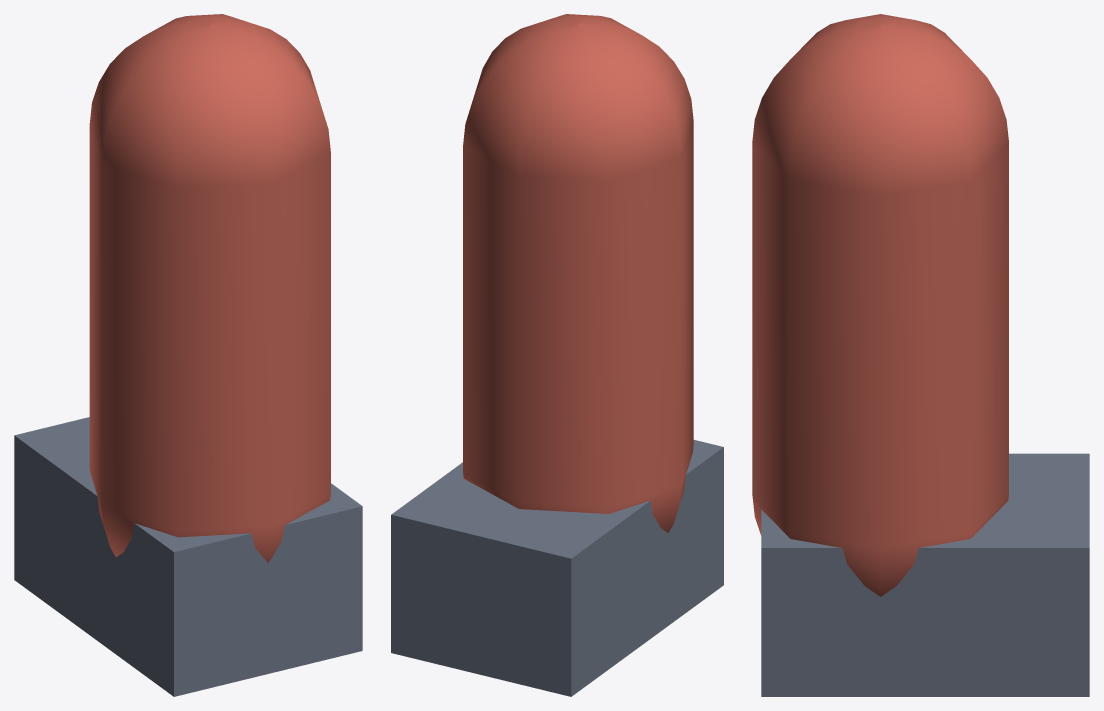
File: red_leg.glb
The picture shows the model from 3 angles, left to right: view 1: azimuth 30°, elevation 25°; view 2: azimuth 150°, elevation 25°; view 3: azimuth 270°, elevation 25°; orthographic projection. The views are drawn at different scales.
Visible parts, largest first — view 1: red_leg; view 2: red_leg; view 3: red_leg.
Part boxes in pixels (x1,y1,x2,y2): red_leg: (14,14,362,696); red_leg: (391,14,723,696); red_leg: (752,14,1089,696).
Bounding box in the file's own units: 0.172 × 0.461 × 0.226.
